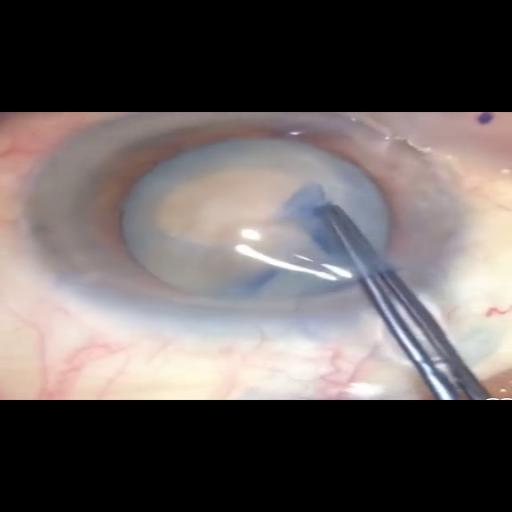catarata: (128, 139, 390, 304)
cornea: (34, 111, 461, 328)
pupil: (83, 131, 430, 311)
